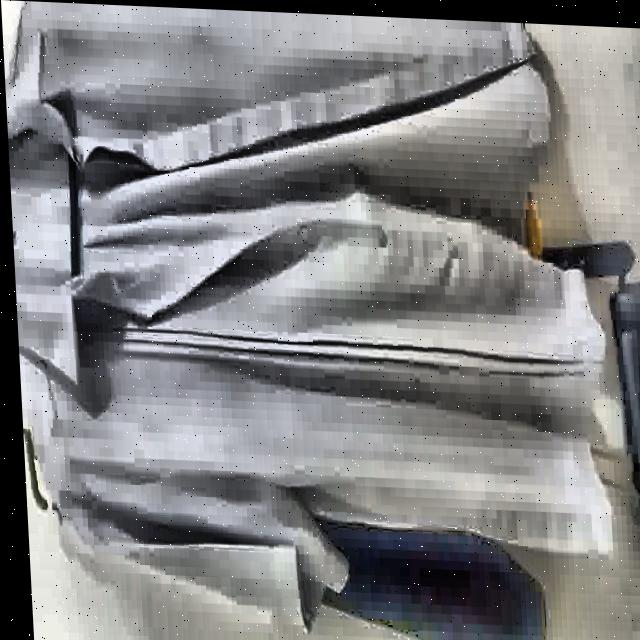clothes: (0, 9, 640, 640)
